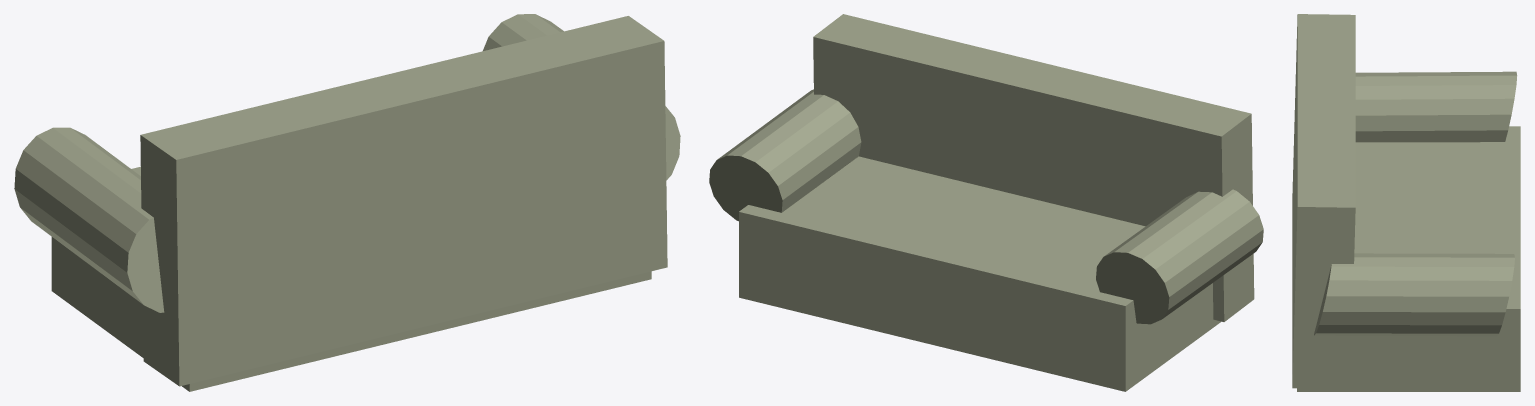
Rendered from couch.obj.
3 views of the same model, side by side, from view 1: azimuth 30°, elevation 25°; view 2: azimuth 150°, elevation 25°; view 3: azimuth 270°, elevation 25° (orthographic). The views are drawn at different scales.
Visible parts, largest first — view 1: ShapeIndexedFaceSet; view 2: ShapeIndexedFaceSet; view 3: ShapeIndexedFaceSet.
Boxes of the visible parts, x1=… form: ShapeIndexedFaceSet: x1=14, y1=14, x2=680, y2=391; ShapeIndexedFaceSet: x1=709, y1=14, x2=1263, y2=391; ShapeIndexedFaceSet: x1=1292, y1=14, x2=1520, y2=391.
Size of the model in its own units: 5.6 by 2.28 by 2.48.
